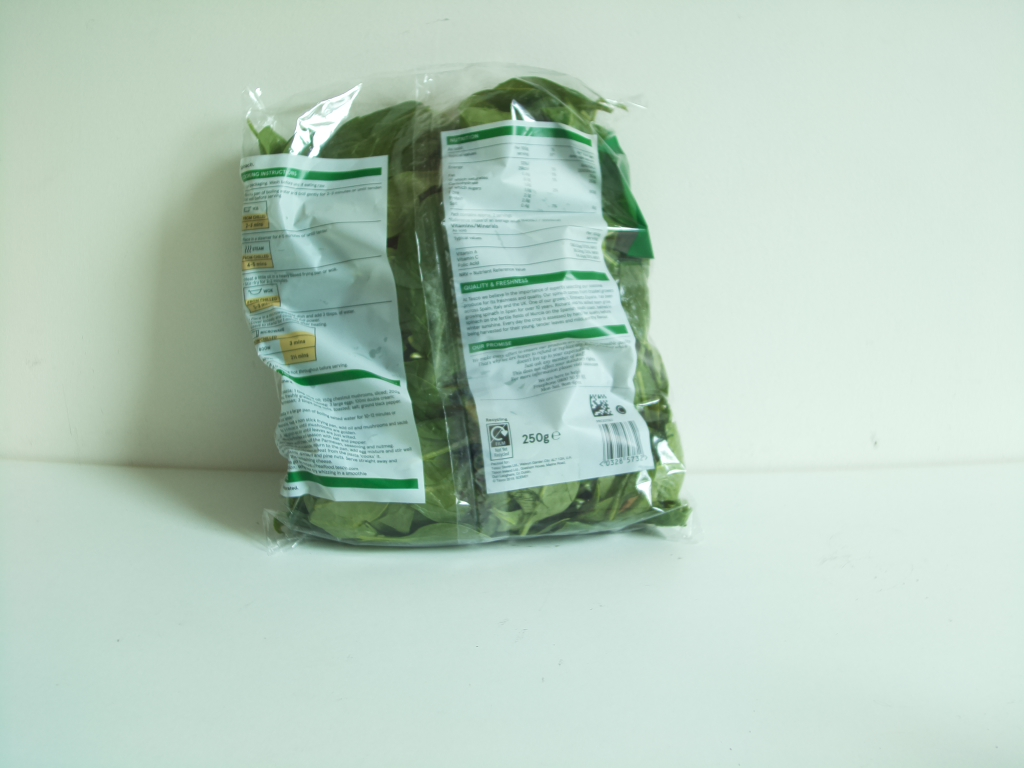salad: (233, 80, 691, 547)
